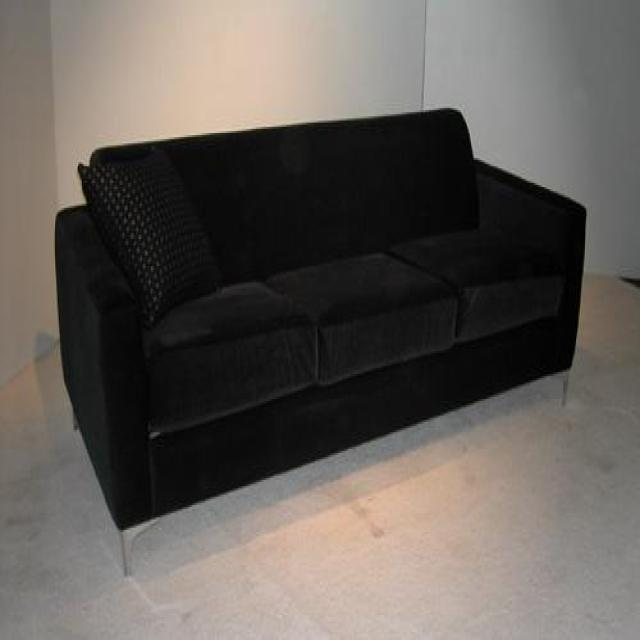sofa: (54, 106, 587, 577)
